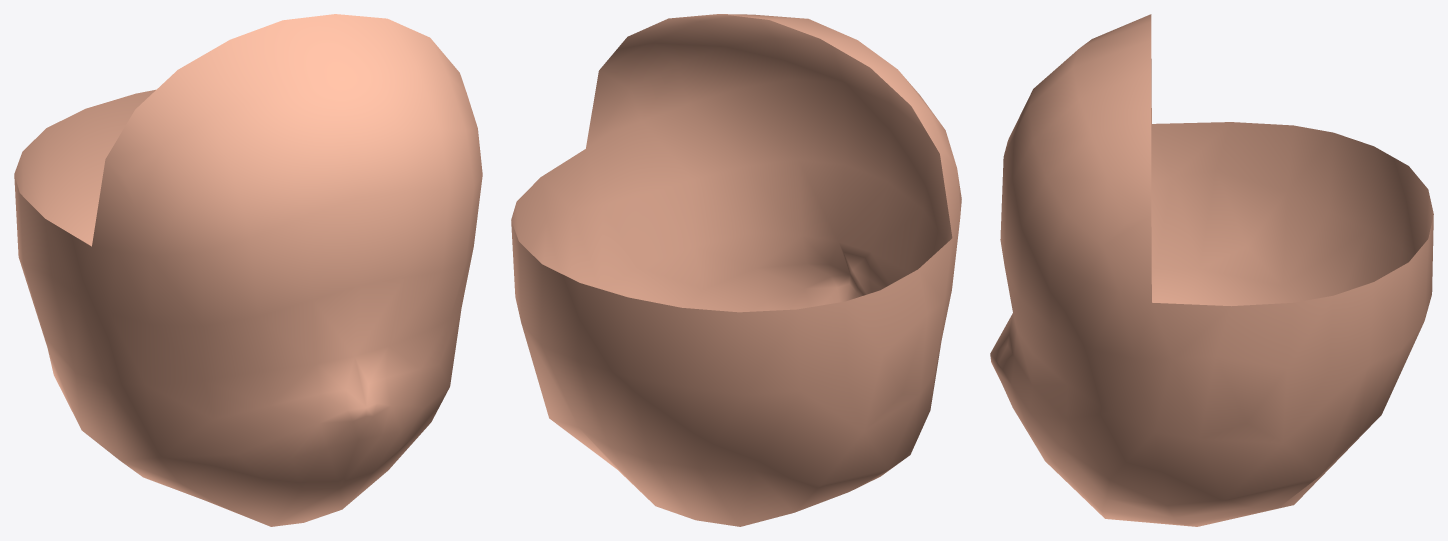
3 views of the same model, side by side, from view 1: azimuth 30°, elevation 25°; view 2: azimuth 150°, elevation 25°; view 3: azimuth 270°, elevation 25° (orthographic). The views are drawn at different scales.
Visible parts, largest first — view 1: AF_M_Face_15; view 2: AF_M_Face_15; view 3: AF_M_Face_15.
Part boxes in pixels (x1,y1,x2,y2): AF_M_Face_15: [14, 14, 482, 526]; AF_M_Face_15: [511, 14, 961, 526]; AF_M_Face_15: [990, 14, 1433, 526].
Bounding box in the file's own units: 655 × 771 × 661.
1 material, 1 textured.
